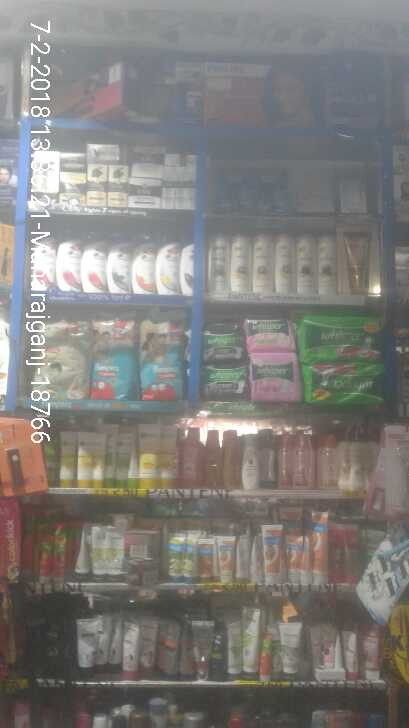venus: (357, 525, 409, 613), (299, 169, 336, 213), (250, 166, 285, 212), (220, 166, 250, 212), (336, 170, 366, 213)
